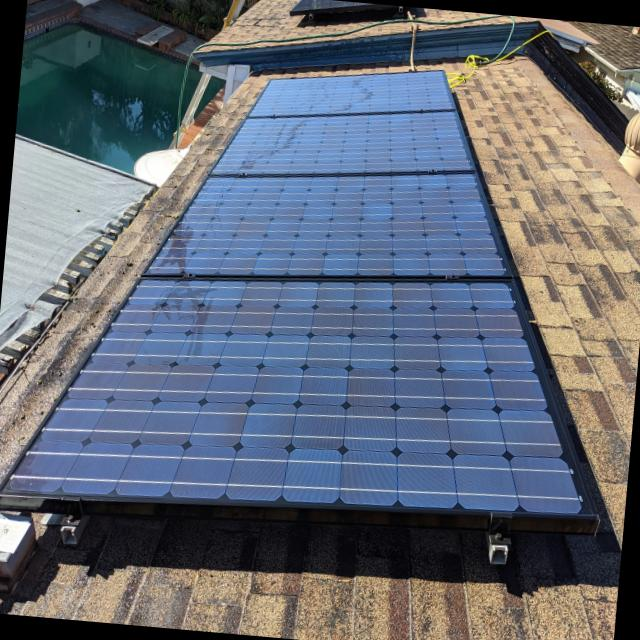no faulty: (2, 68, 581, 510)
